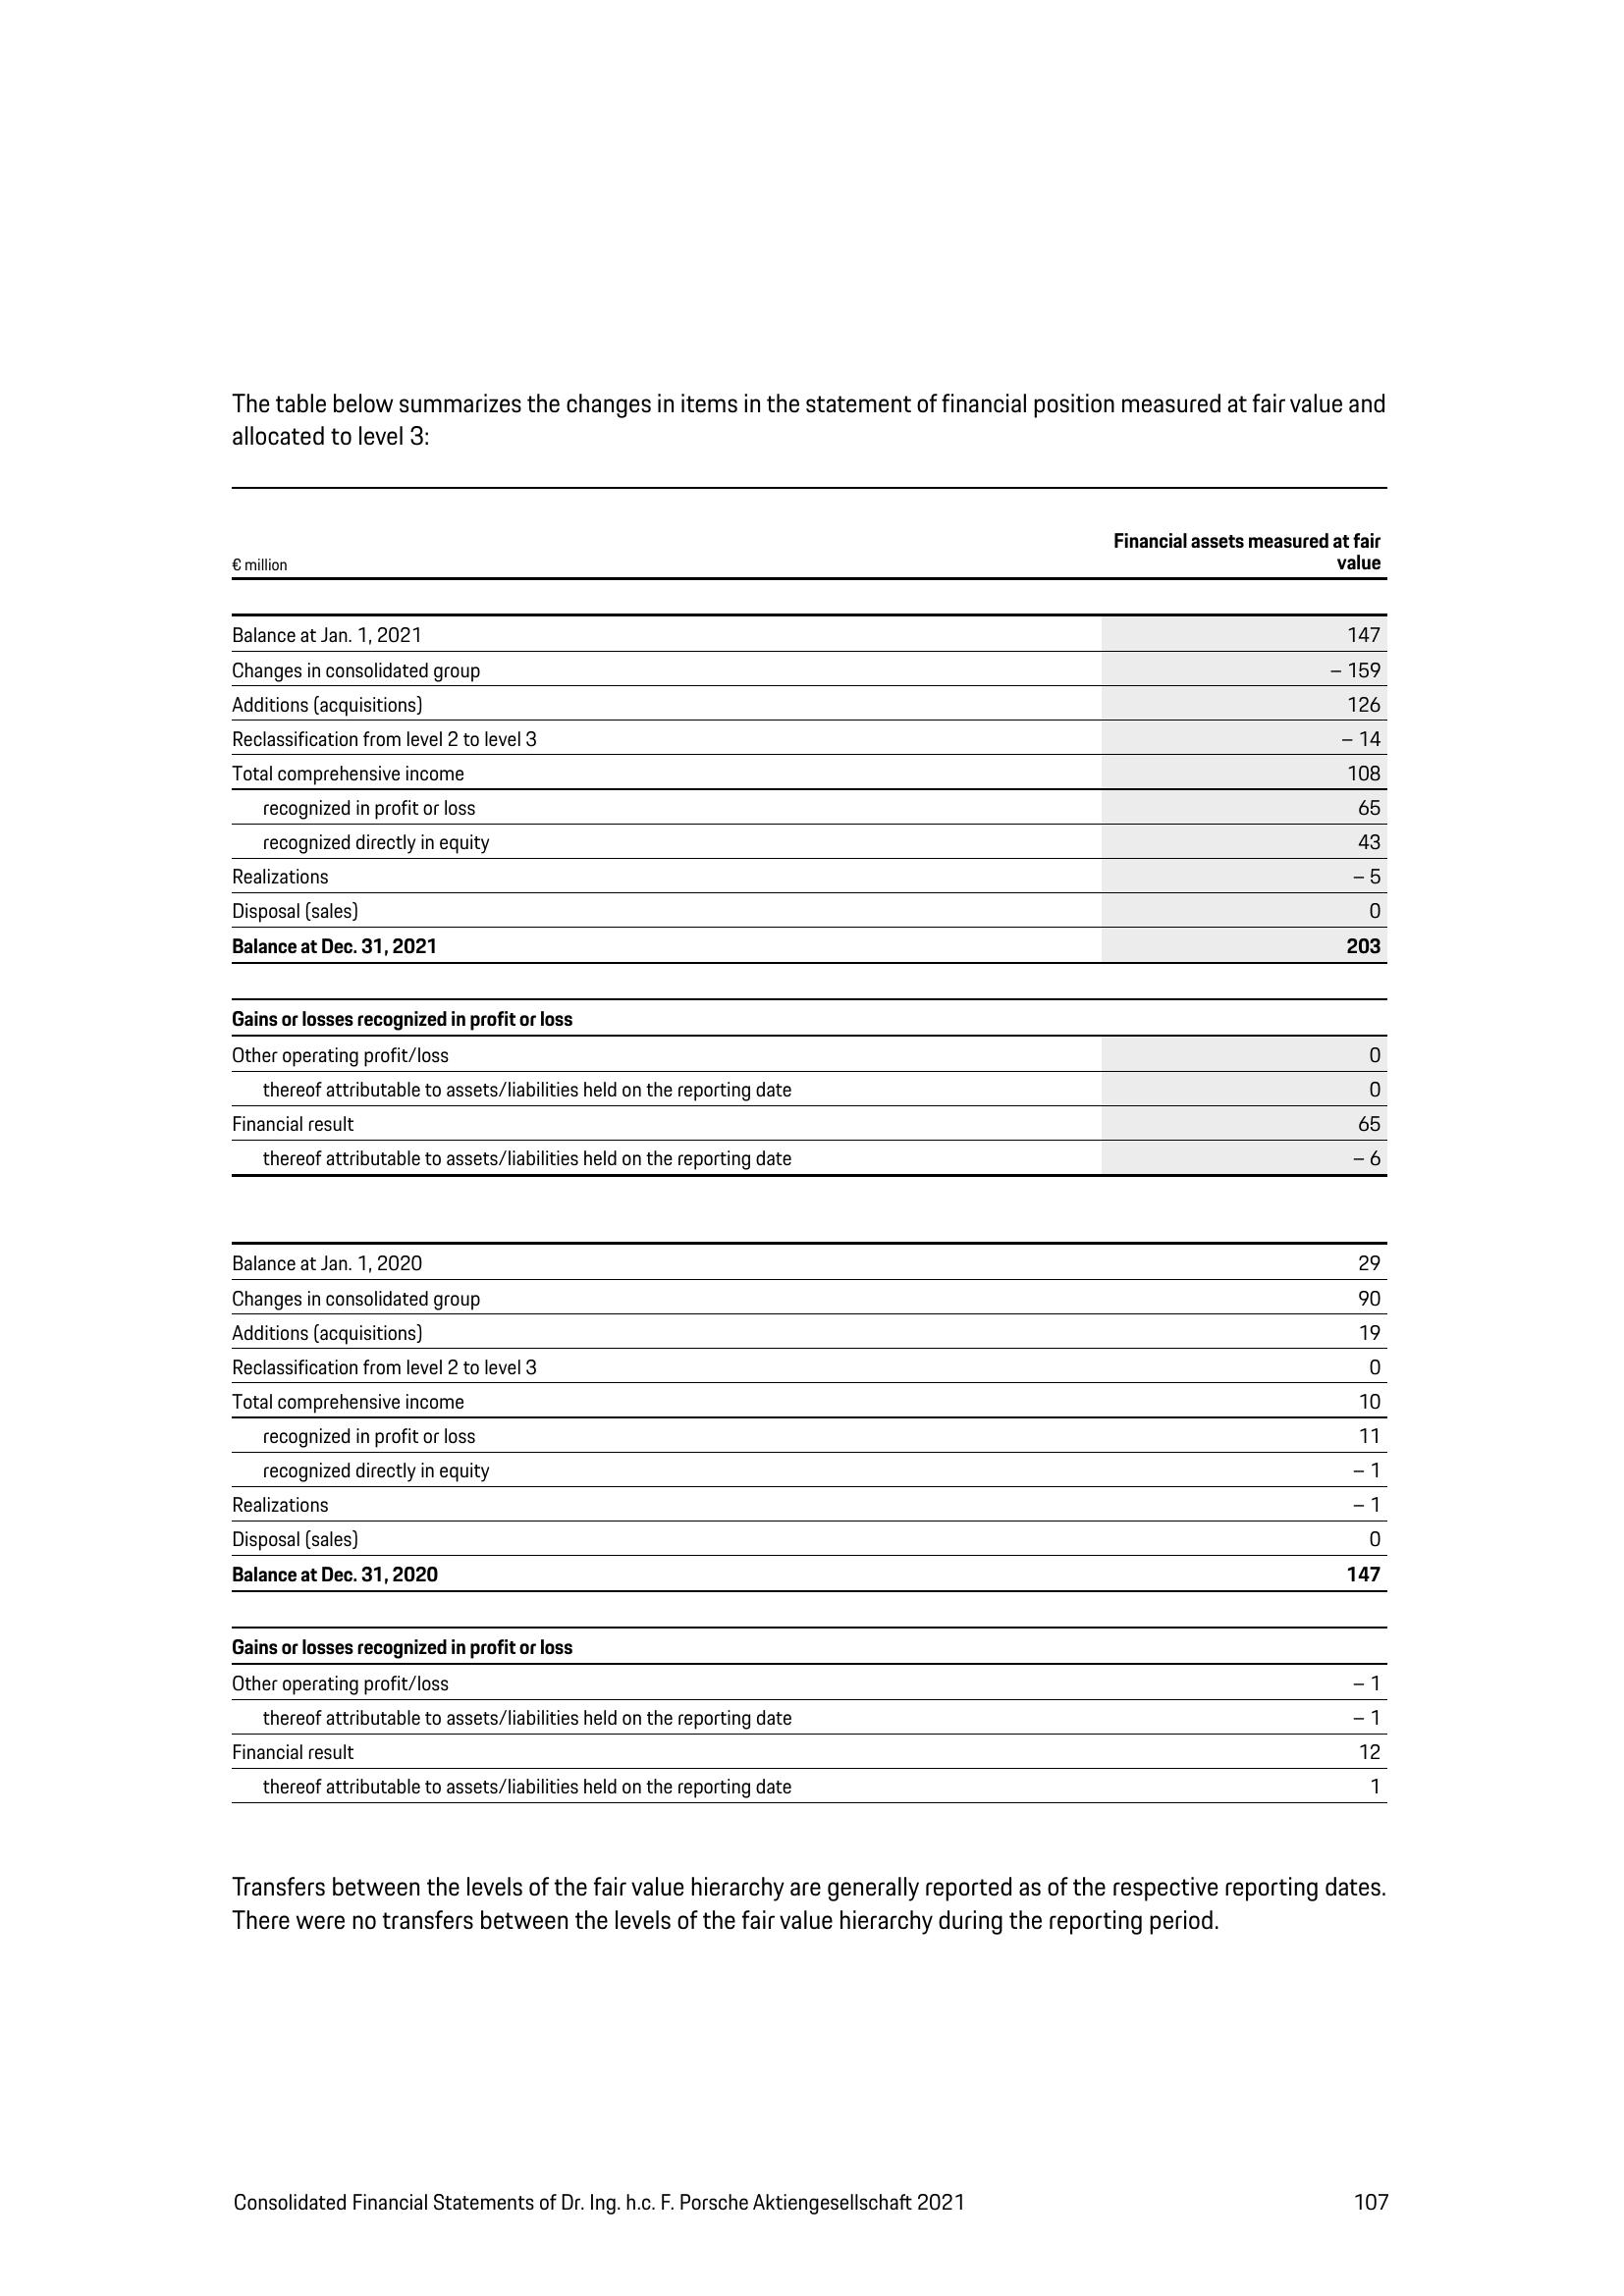Footer: (0, 2152, 1624, 2296)
Header: (0, 0, 1624, 214)
Table: (199, 480, 1438, 1816)
